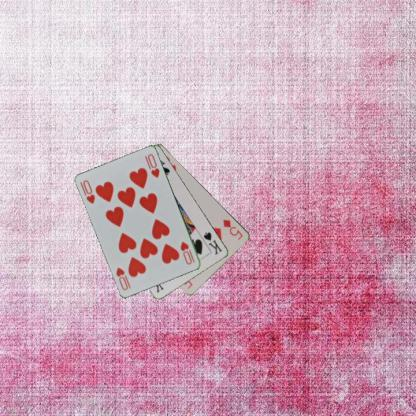10h: (178, 239, 196, 266), (80, 177, 96, 205)
5d: (221, 217, 244, 241)
Ks: (201, 229, 224, 256)
